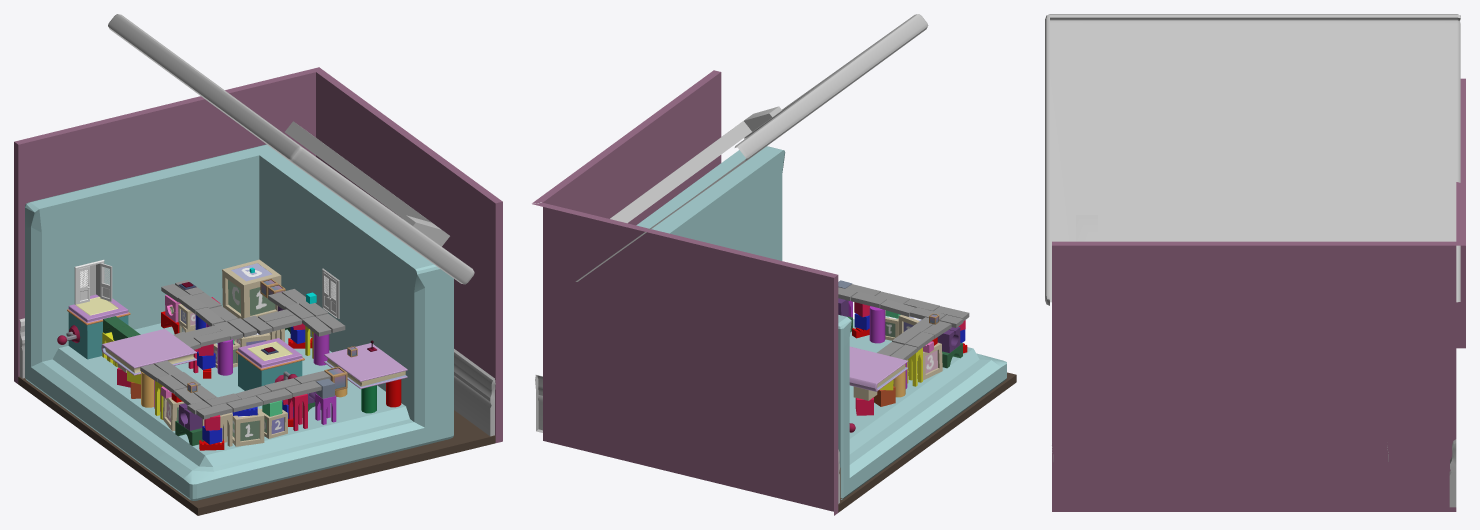
The model's file is Level[ToyBox].fbx.
3 views of the same model, side by side, from view 1: azimuth 30°, elevation 25°; view 2: azimuth 150°, elevation 25°; view 3: azimuth 270°, elevation 25° (orthographic). The views are drawn at different scales.
Visible parts, largest first — view 1: rightWall, bottomWall2, exteriorLeftWall, exteriorWallRight, upperLeftWall, lidCeiling, exteriorFloor1, middleLeftWall, lowerLeftWall, topLidDetail, bookPlatform, Block118 (+14 smaller); view 2: exteriorLeftWall, exteriorWallRight, rightWall, bottomWall2, lidCeiling, topLidDetail, Block118, exteriorFloor1, bookPlatform, Block119, upperLeftWall, lowerLeftWall (+3 smaller); view 3: exteriorWallRight, lidCeiling, exteriorLeftWall, topLidDetail.
Part boxes in pixels (bbox=[...]): rightWall: bbox=[259, 151, 453, 427]; bottomWall2: bbox=[31, 323, 453, 500]; exteriorLeftWall: bbox=[14, 67, 318, 383]; exteriorWallRight: bbox=[316, 67, 502, 442]; upperLeftWall: bbox=[25, 144, 275, 274]; lidCeiling: bbox=[108, 14, 474, 284]; exteriorFloor1: bbox=[18, 376, 495, 515]; middleLeftWall: bbox=[104, 221, 259, 297]; lowerLeftWall: bbox=[25, 271, 222, 385]; topLidDetail: bbox=[285, 121, 449, 246]; bookPlatform: bbox=[101, 329, 196, 375]; Block118: bbox=[187, 371, 330, 419]; exteriorLeftWall: bbox=[532, 202, 838, 515]; exteriorWallRight: bbox=[532, 70, 721, 225]; rightWall: bbox=[636, 146, 785, 260]; bottomWall2: bbox=[849, 319, 1006, 492]; lidCeiling: bbox=[575, 14, 928, 281]; topLidDetail: bbox=[610, 106, 781, 223]; Block118: bbox=[838, 284, 969, 327]; exteriorFloor1: bbox=[838, 372, 1016, 512]; bookPlatform: bbox=[849, 346, 908, 391]; Block119: bbox=[877, 317, 951, 360]; upperLeftWall: bbox=[838, 315, 851, 390]; lowerLeftWall: bbox=[838, 425, 852, 499]; exteriorWallRight: bbox=[1052, 241, 1464, 511]; lidCeiling: bbox=[1045, 14, 1460, 305]; exteriorLeftWall: bbox=[1456, 78, 1465, 348]; topLidDetail: bbox=[1076, 215, 1097, 241].
Size of the model in its own units: 44.85 by 49.79 by 47.53.
